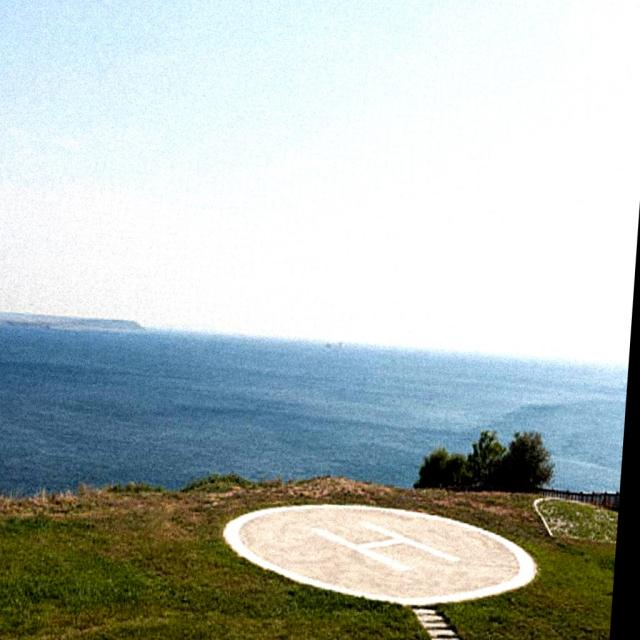helipad: (219, 501, 542, 607)
